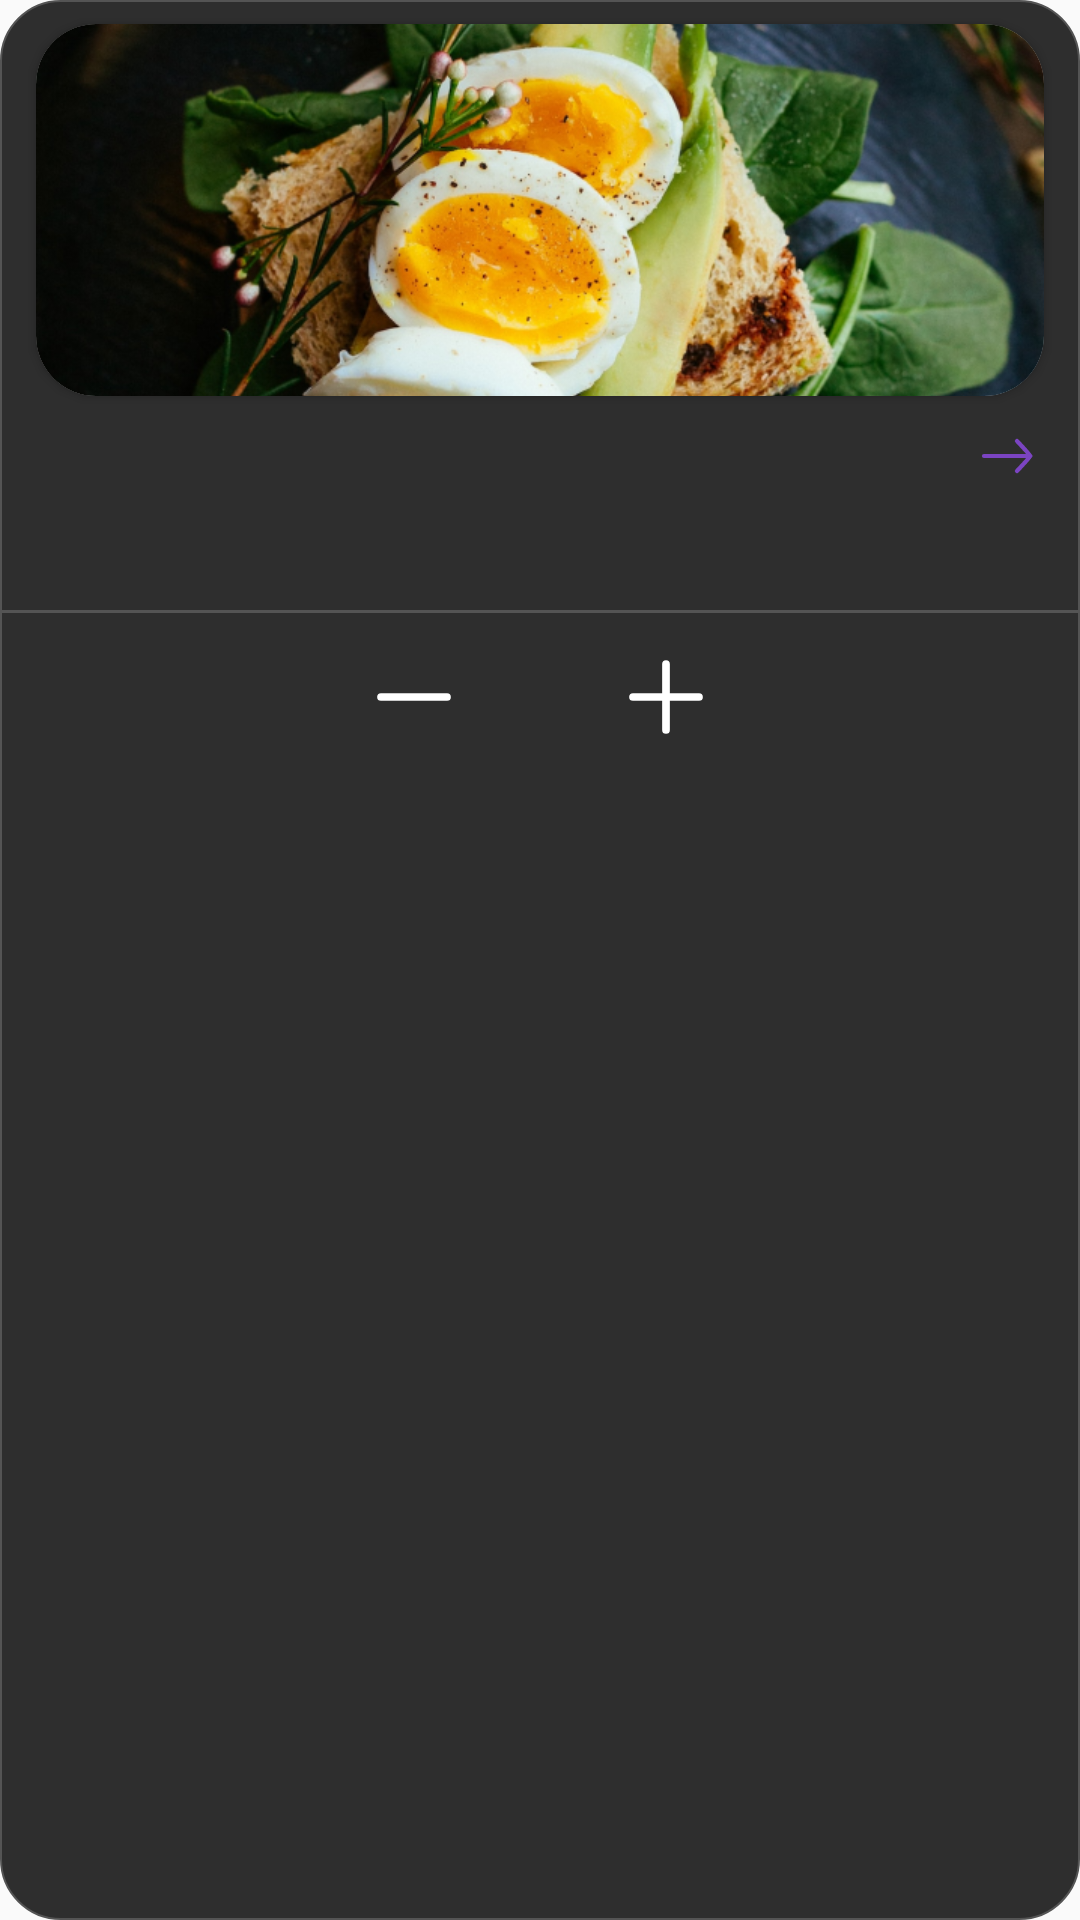

Icon click points for this 1080x1920 phone screenshot, format (x=x, y=y):
arrow right: (x=1007, y=456)
plus: (x=666, y=697)
